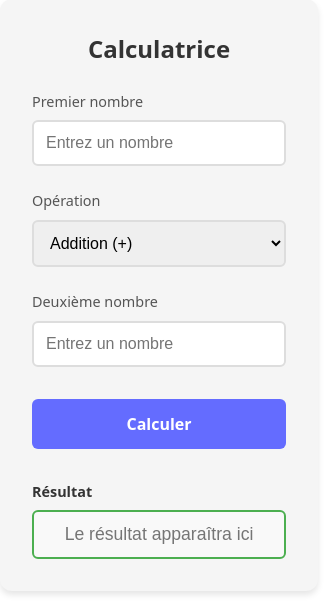
Scenario: Calculator › should calculate subtraction correctly
Type "10" into the number field labelled "Premier nombre" at (159, 143), box [32,120,286,166]
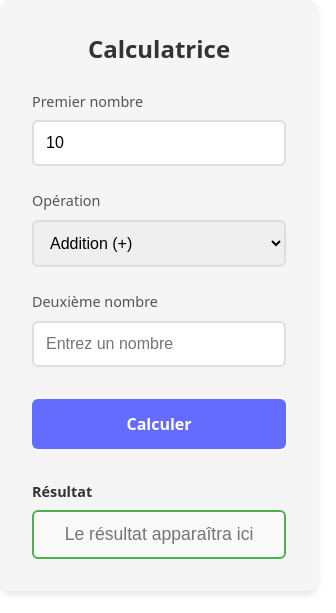
Type "4" into the number field labelled "Deuxième nombre" at (159, 344), box [32,321,286,367]
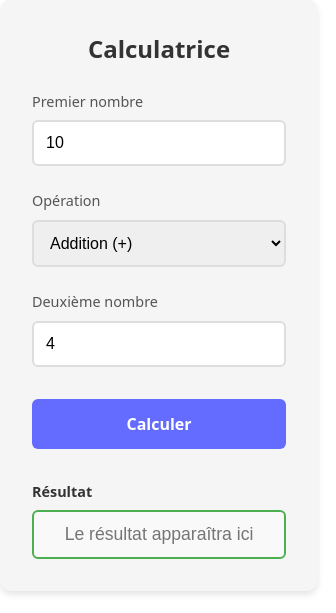
Select "Soustraction (−)" in the dropdown labelled "Opération" at (159, 244), box [32,220,286,267]
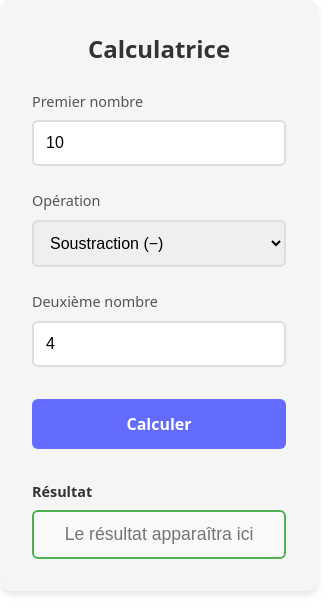
Click the button "Calculer" at (159, 424), box [32,399,286,449]
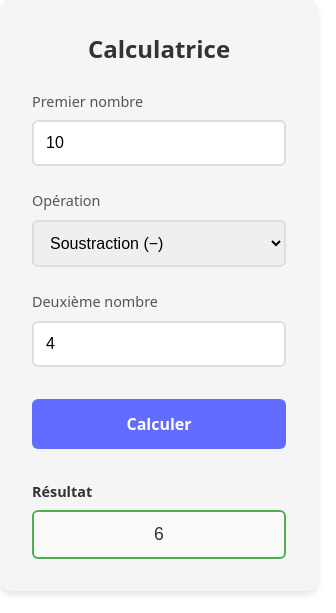
expect the field labelled "Résultat" holds "6": met, box [32,510,286,559]
